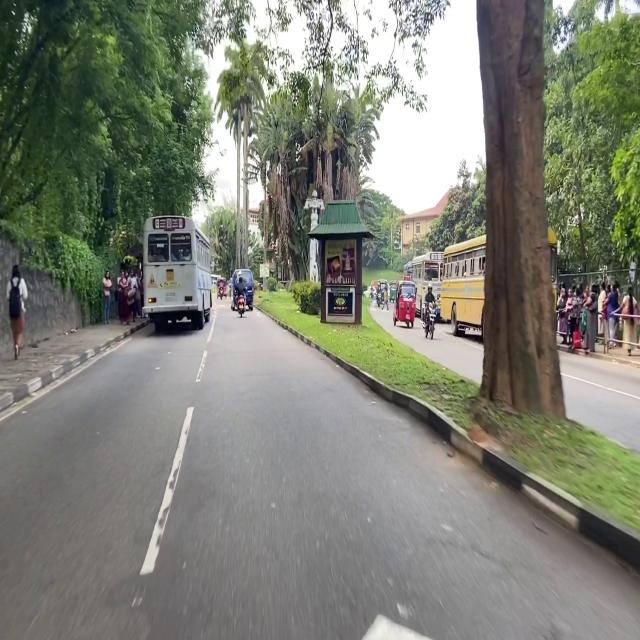bus: (440, 229, 557, 337), (143, 216, 212, 331), (412, 251, 443, 318), (403, 261, 412, 279)
motorcycle: (422, 302, 435, 339), (237, 294, 245, 317), (377, 290, 381, 308), (220, 288, 223, 300)
person: (7, 264, 27, 359), (621, 287, 637, 356), (585, 285, 598, 353), (607, 286, 619, 347), (118, 271, 130, 324), (102, 270, 112, 324), (557, 287, 567, 338), (127, 270, 137, 321), (571, 288, 582, 330), (565, 289, 574, 338), (598, 282, 606, 335), (234, 274, 246, 307), (602, 289, 609, 342), (425, 286, 435, 312), (139, 264, 143, 315), (383, 289, 388, 310), (377, 281, 381, 293), (219, 279, 224, 288)
three wheeler: (393, 280, 416, 328), (217, 277, 226, 298), (380, 280, 387, 305), (389, 281, 396, 302)
van: (230, 269, 253, 311)
